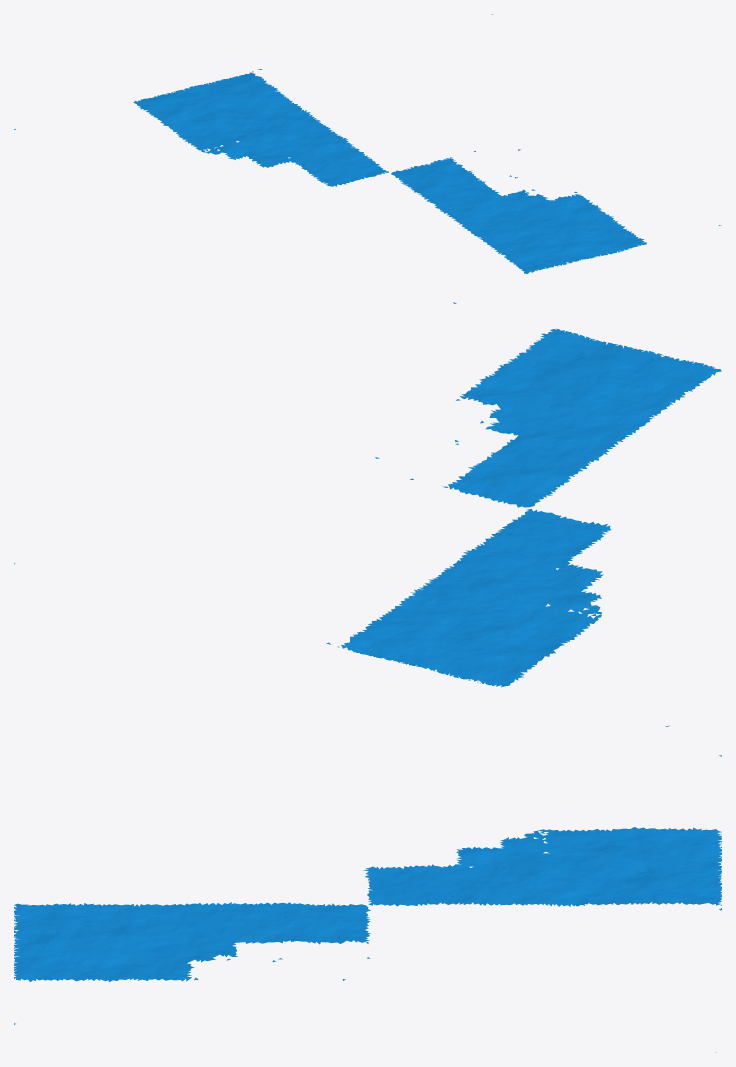
The model's file is ChunkPrefab3.fbx.
3 views of the same model, one above another, from view 1: azimuth 30°, elevation 25°; view 2: azimuth 150°, elevation 25°; view 3: azimuth 270°, elevation 25° (orthographic). The views are drawn at different scales.
Parts seen in each view (by area): view 1: ChunkPrefab_Clone_; view 2: ChunkPrefab_Clone_; view 3: ChunkPrefab_Clone_.
Part boxes in pixels (x1,y1,x2,y2): ChunkPrefab_Clone_: (14,14,721,273); ChunkPrefab_Clone_: (14,302,721,726); ChunkPrefab_Clone_: (14,755,721,1052).
Size of the model in its own units: 99745 by 532 by 99997.
